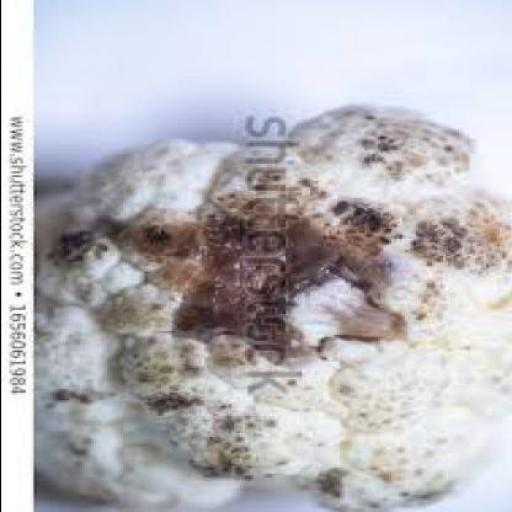biodegradable: (38, 106, 511, 511)
